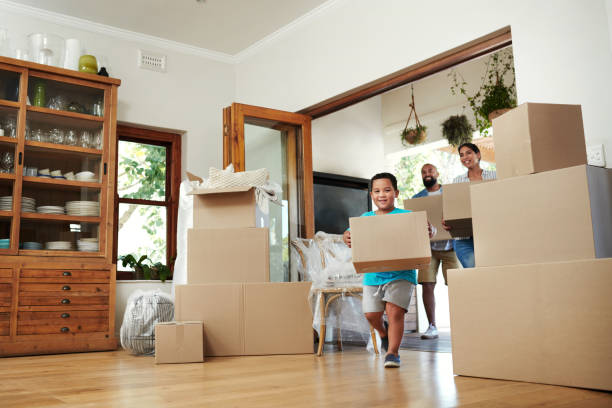without mask: (369, 171, 405, 215), (414, 156, 445, 193), (455, 135, 486, 172)
